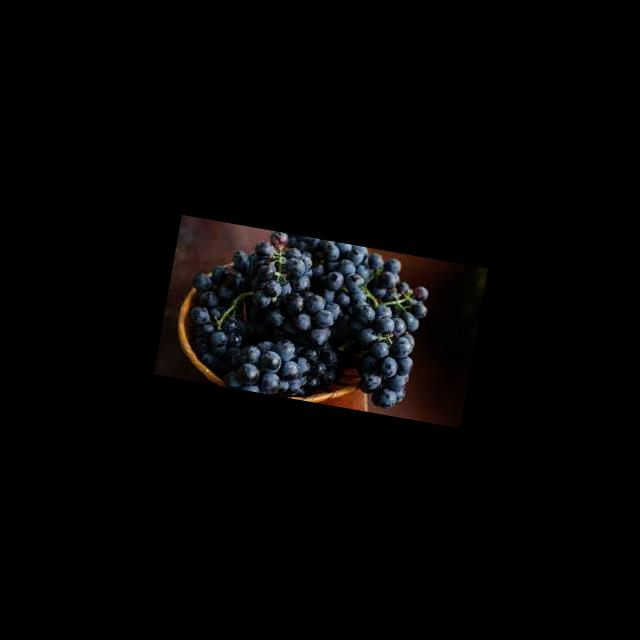grape: (175, 217, 436, 417)
